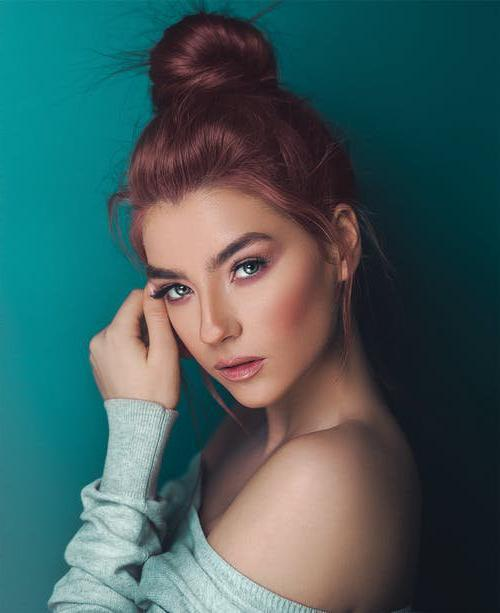Sober: (149, 205, 320, 399)
